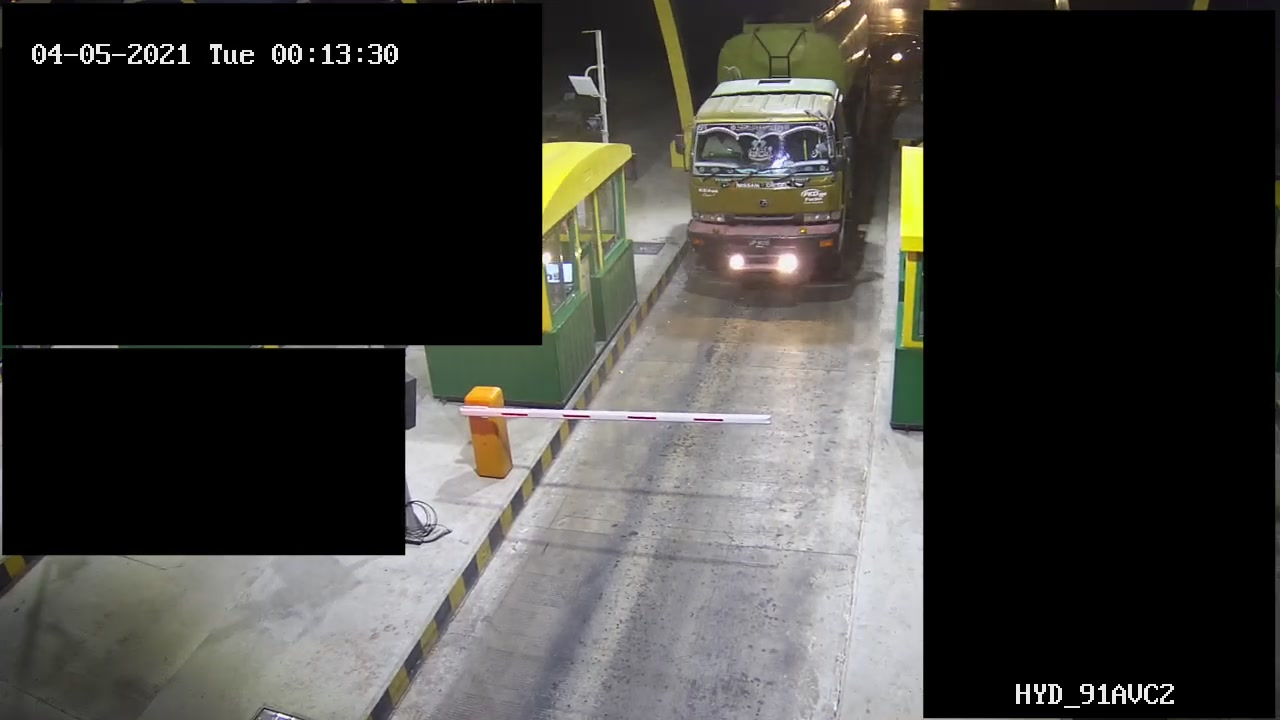F6: (680, 1, 878, 296)
